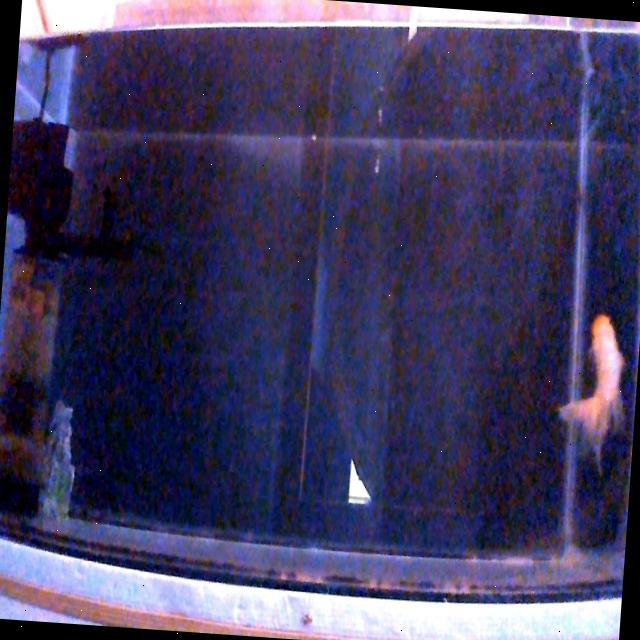fish: (554, 308, 630, 462)
